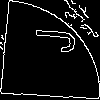J: (25, 24, 76, 55)
